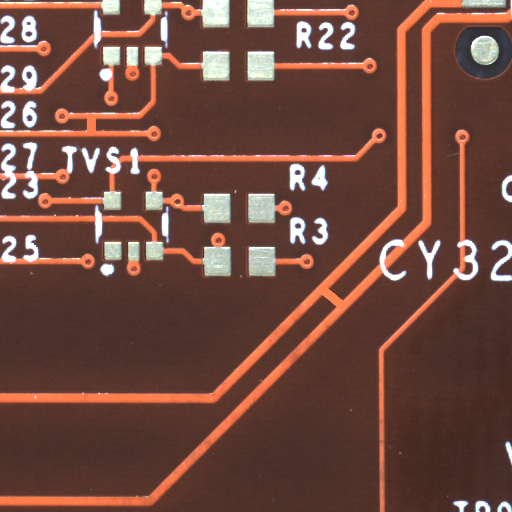Short: (333, 297, 358, 322), (91, 124, 106, 142)
